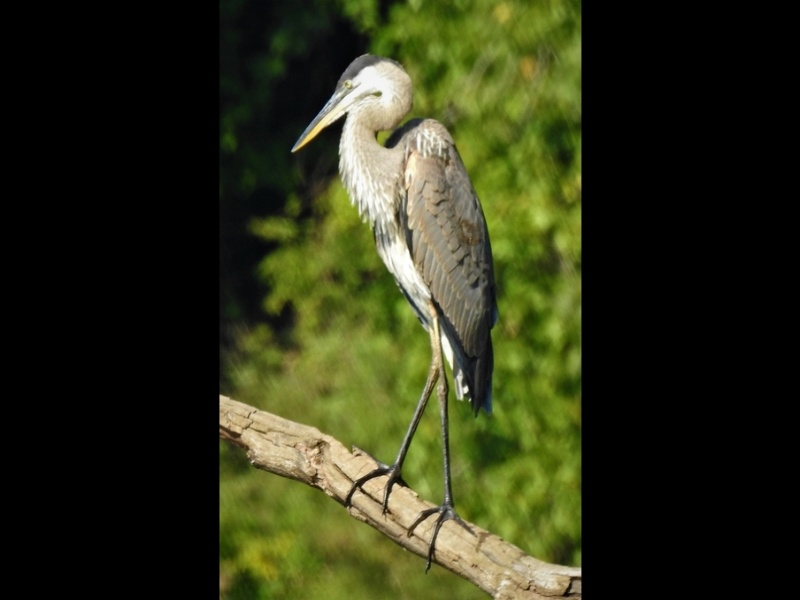heron: (287, 50, 502, 576)
